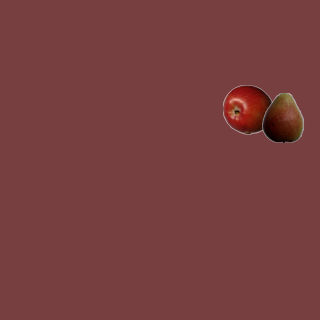Apple Braeburn: (222, 84, 272, 134)
Pear Forelle: (257, 92, 307, 142)
